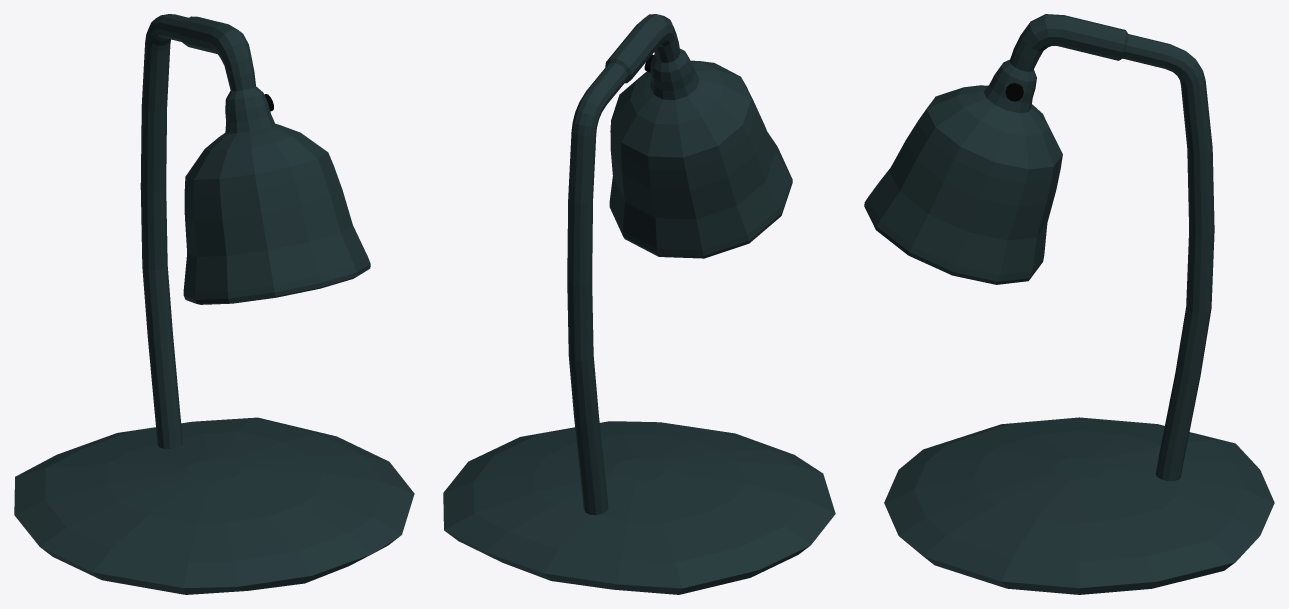
Rendered from lampka-pionek.glb.
3 renders of one model, left to right at view 1: azimuth 30°, elevation 25°; view 2: azimuth 150°, elevation 25°; view 3: azimuth 270°, elevation 25°, orthographic. The views are drawn at different scales.
Visible parts, largest first — view 1: Cylinder; view 2: Cylinder; view 3: Cylinder.
Boxes of the visible parts, bbox=[...] form: Cylinder: bbox=[14, 14, 414, 594]; Cylinder: bbox=[443, 14, 835, 594]; Cylinder: bbox=[864, 14, 1274, 594].
Bounding box in the file's own units: 2.35 × 3.2 × 2.38.
